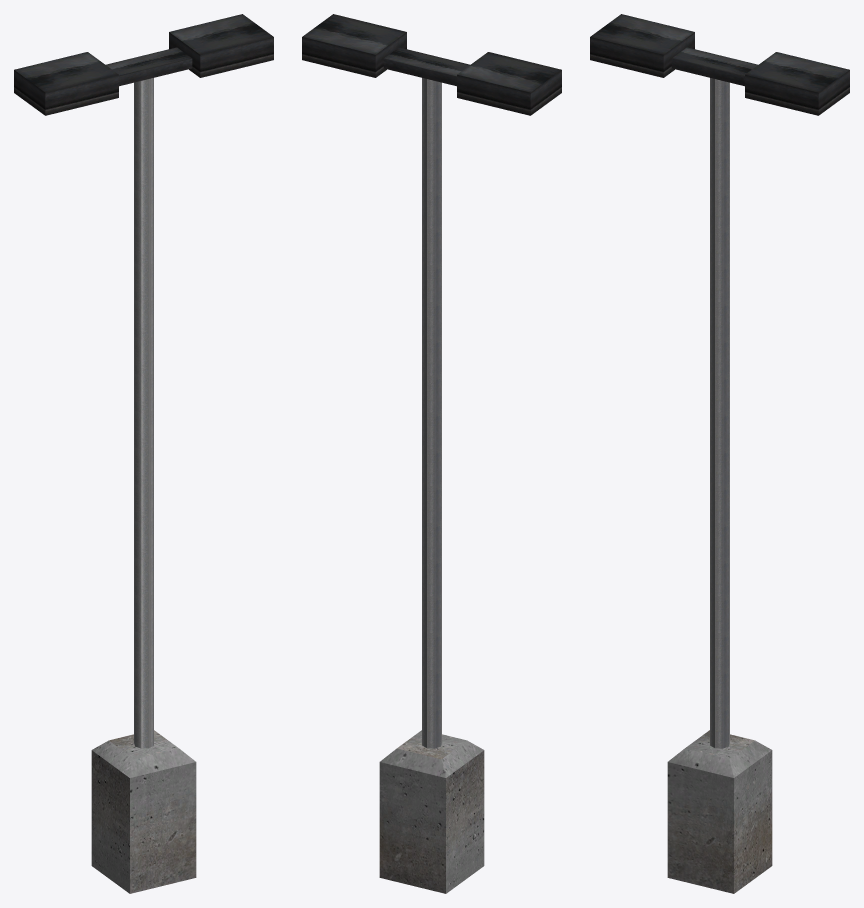
The model's file is 2lights_square.fbx.
3 views of the same model, side by side, from view 1: azimuth 30°, elevation 25°; view 2: azimuth 150°, elevation 25°; view 3: azimuth 330°, elevation 25° (orthographic).
Parts seen in each view (by area): view 1: mesh_0; view 2: mesh_0; view 3: mesh_0.
Part boxes in pixels (x1=…): mesh_0: x1=14, y1=14, x2=273, y2=893; mesh_0: x1=302, y1=14, x2=561, y2=893; mesh_0: x1=590, y1=14, x2=849, y2=893.
Size of the model in its own units: 206 by 707 by 60.
Materials: 1 (1 with a texture image).
